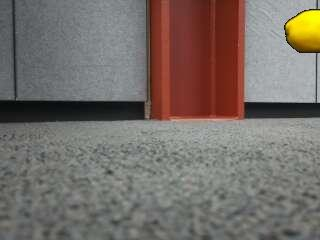lemon: (286, 10, 320, 53)
